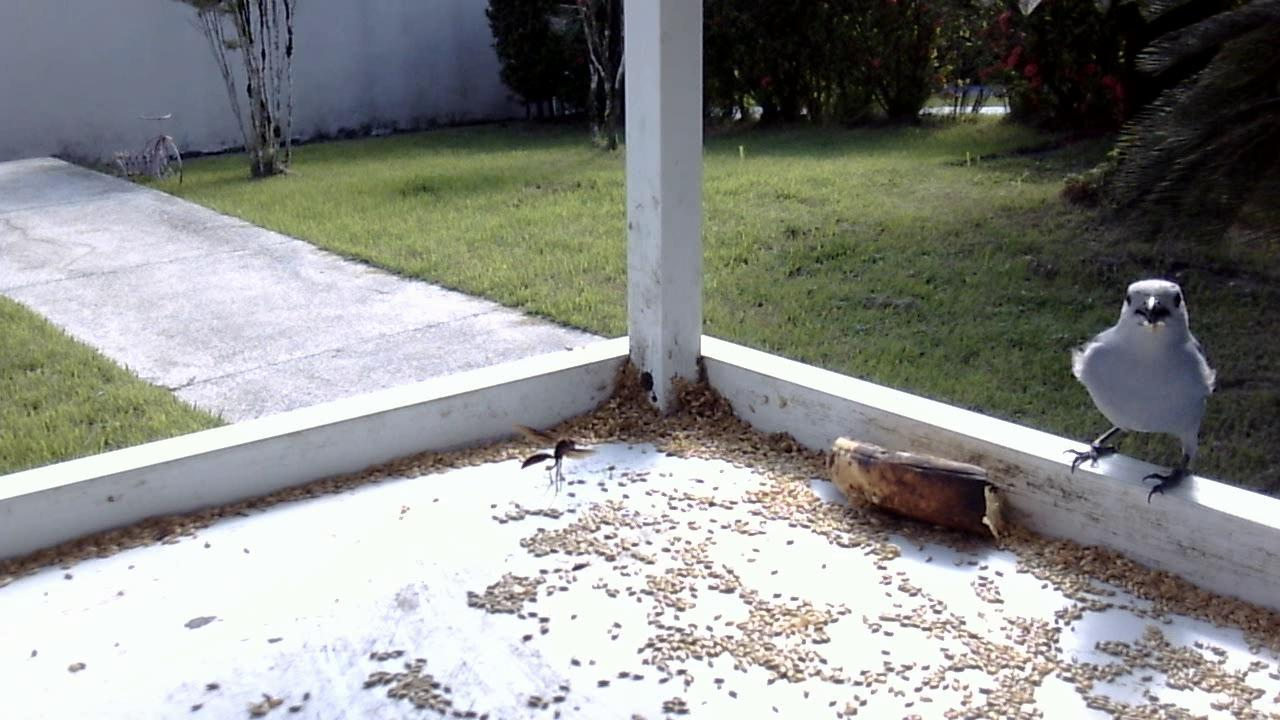sanhaco_da_amazonia: (1060, 272, 1220, 505)
